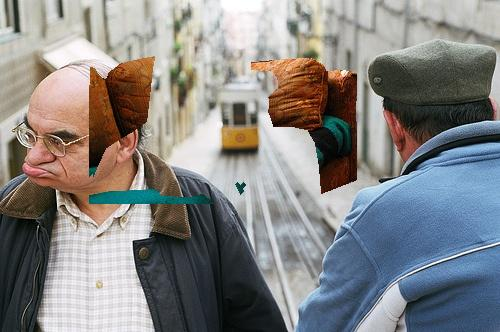tampered: (90, 57, 357, 204)
